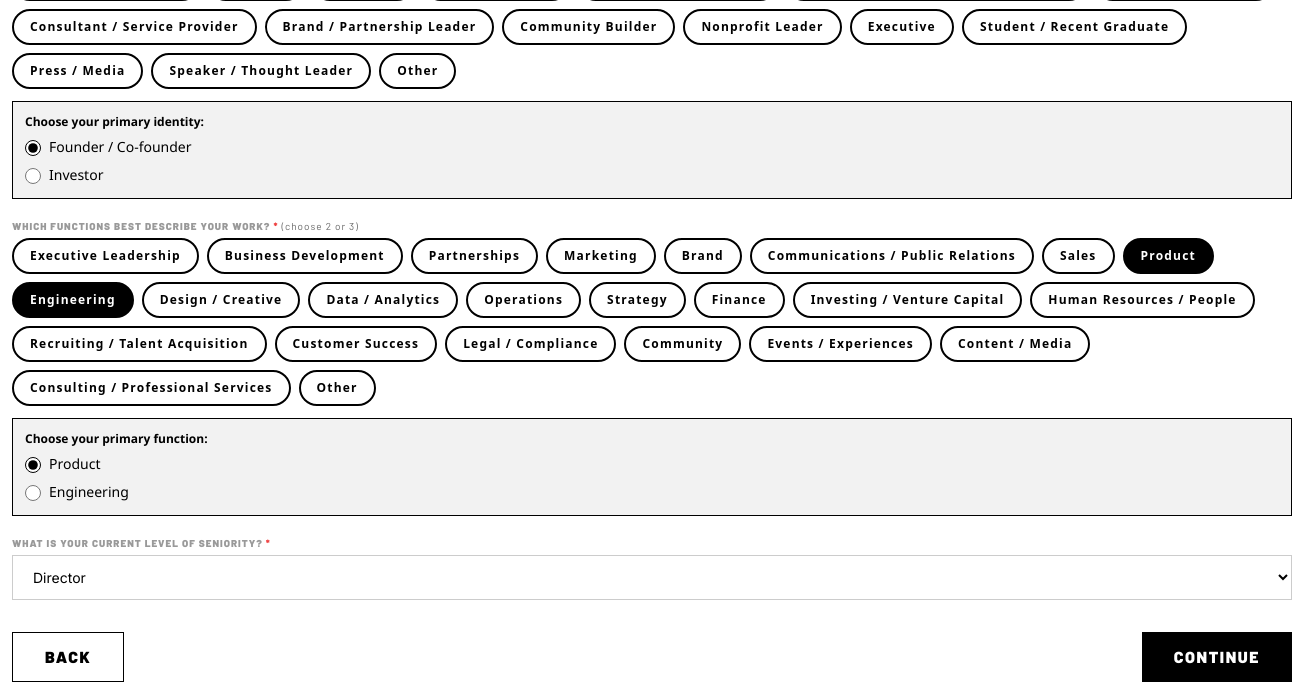
it: wizard blocks Next when a now-required multi-select is empty › Page 1 — LinkedIn URL still format-checked once present
(page scrolled)
Click the button "Continue".
click(1217, 657)  # box [1142, 632, 1292, 681]
(page scrolled)
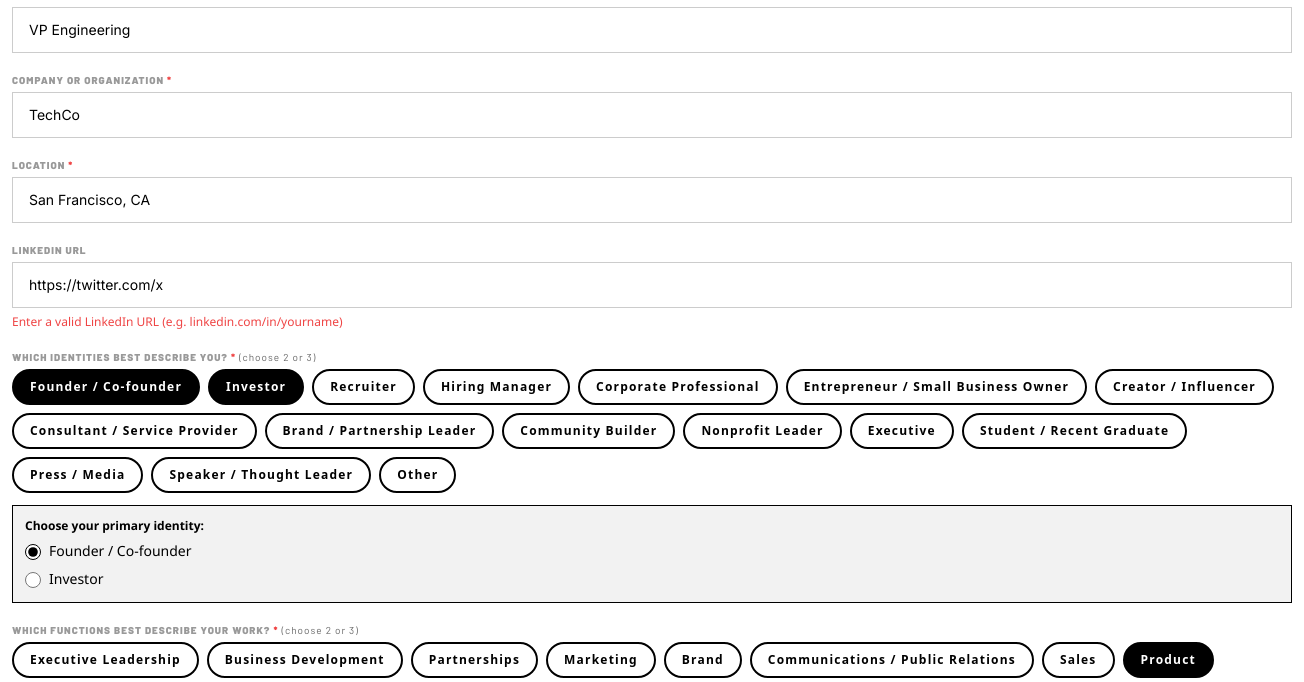
Expected: the text "Enter a valid LinkedIn URL (e.g. linkedin.com/in/yourname)" is shown, [12, 313, 343, 330]
